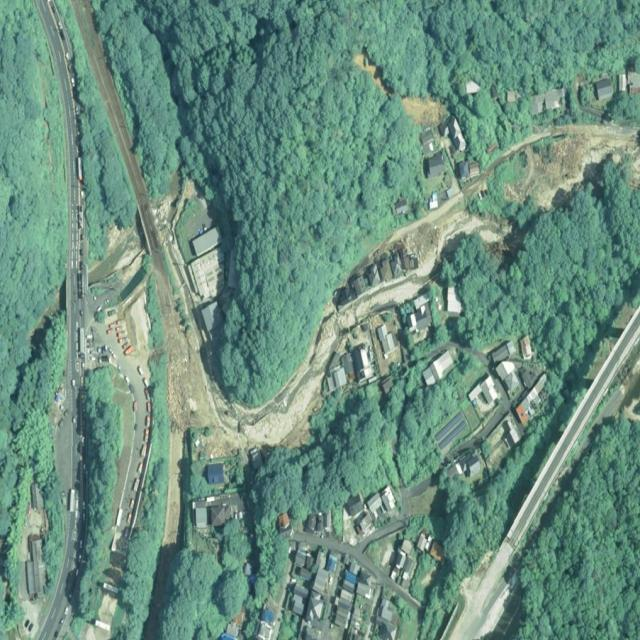landslide: (168, 197, 501, 452), (463, 123, 640, 209)
